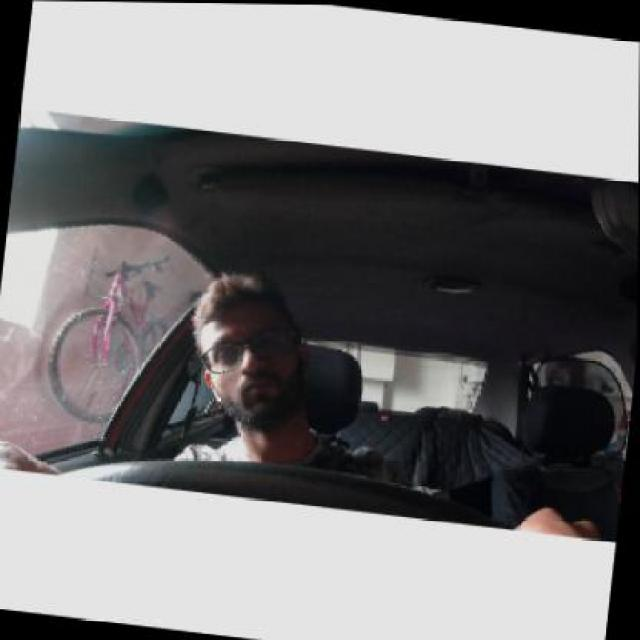person: (191, 282, 312, 426)
